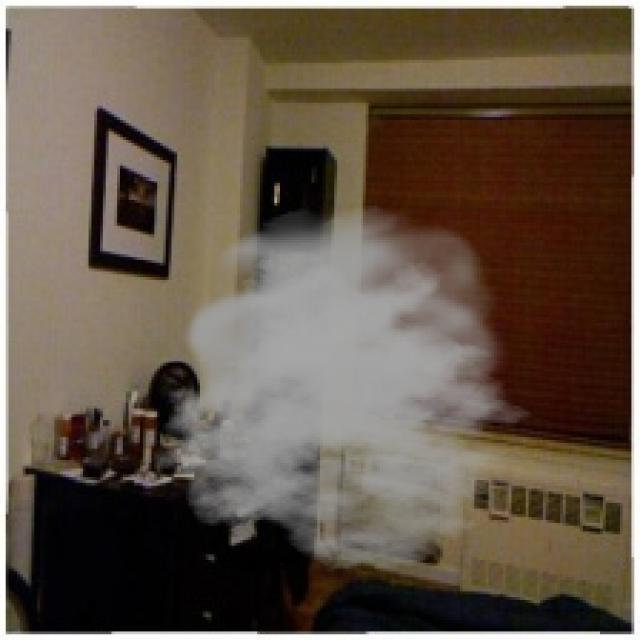Smoke: (152, 206, 552, 572)
